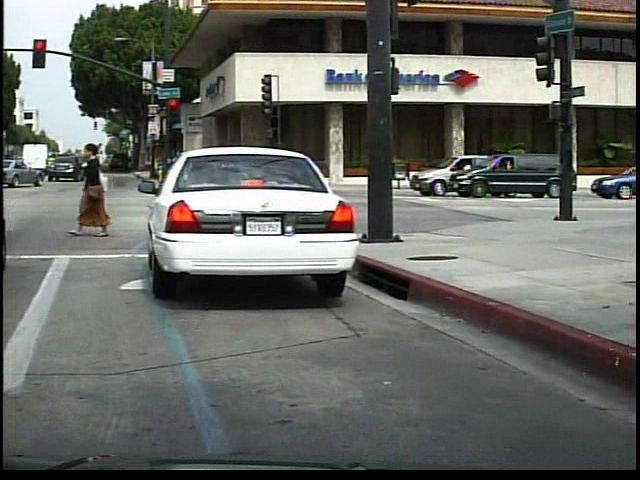person: (75, 139, 125, 242)
